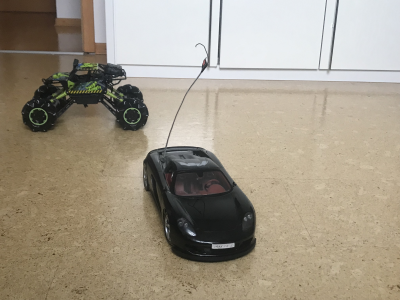remote control car: (19, 57, 151, 131)
